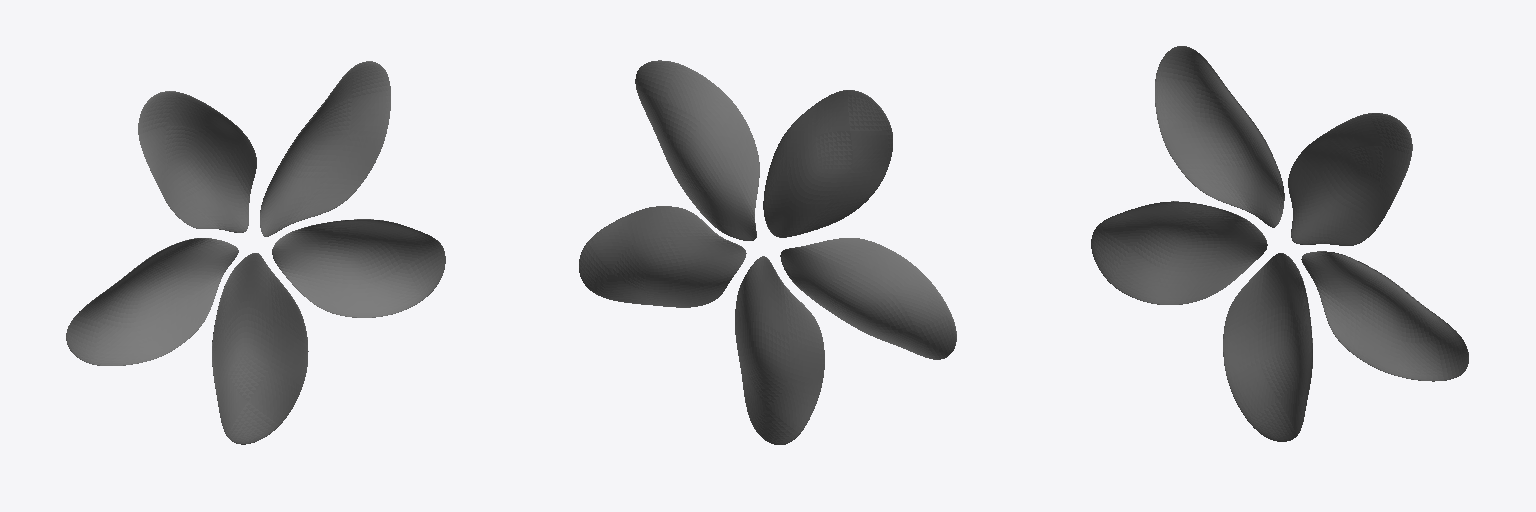
The model's file is flower.obj.
3 renders of one model, left to right at view 1: azimuth 30°, elevation 25°; view 2: azimuth 150°, elevation 25°; view 3: azimuth 330°, elevation 25°, orthographic.
Parts seen in each view (by area): view 1: polySurface9 pDisc6, pasted__polySurface9 pasted__pDisc6 group, pasted__pasted__pasted__pasted__polySurface9 pasted__pasted__pas, pasted__pasted__polySurface9 pasted__pasted__pDisc6 pasted__grou, pasted__pasted__pasted__polySurface9 pasted__pasted__pasted__pDi; view 2: pasted__pasted__polySurface9 pasted__pasted__pDisc6 pasted__grou, pasted__pasted__pasted__polySurface9 pasted__pasted__pasted__pDi, pasted__pasted__pasted__pasted__polySurface9 pasted__pasted__pas, pasted__polySurface9 pasted__pDisc6 group, polySurface9 pDisc6; view 3: pasted__pasted__pasted__pasted__polySurface9 pasted__pasted__pas, pasted__pasted__pasted__polySurface9 pasted__pasted__pasted__pDi, polySurface9 pDisc6, pasted__pasted__polySurface9 pasted__pasted__pDisc6 pasted__grou, pasted__polySurface9 pasted__pDisc6 group.
Part boxes in pixels (x1,y1,x2,y2): polySurface9 pDisc6: (212, 253, 308, 444); pasted__polySurface9 pasted__pDisc6 group: (272, 219, 445, 317); pasted__pasted__pasted__pasted__polySurface9 pasted__pasted__pas: (66, 238, 238, 365); pasted__pasted__polySurface9 pasted__pasted__pDisc6 pasted__grou: (260, 61, 390, 236); pasted__pasted__pasted__polySurface9 pasted__pasted__pasted__pDi: (138, 91, 256, 232); pasted__pasted__polySurface9 pasted__pasted__pDisc6 pasted__grou: (635, 60, 759, 240); pasted__pasted__pasted__polySurface9 pasted__pasted__pasted__pDi: (763, 90, 892, 237); pasted__pasted__pasted__pasted__polySurface9 pasted__pasted__pas: (780, 238, 956, 359); pasted__polySurface9 pasted__pDisc6 group: (579, 206, 746, 307); polySurface9 pDisc6: (735, 256, 824, 444); pasted__pasted__pasted__pasted__polySurface9 pasted__pasted__pas: (1091, 201, 1267, 304); pasted__pasted__pasted__polySurface9 pasted__pasted__pasted__pDi: (1155, 46, 1284, 227); polySurface9 pDisc6: (1223, 253, 1312, 441); pasted__pasted__polySurface9 pasted__pasted__pDisc6 pasted__grou: (1288, 113, 1412, 245); pasted__polySurface9 pasted__pDisc6 group: (1301, 251, 1468, 381).
Size of the model in its own units: 0.9383 by 0.884 by 0.0929.